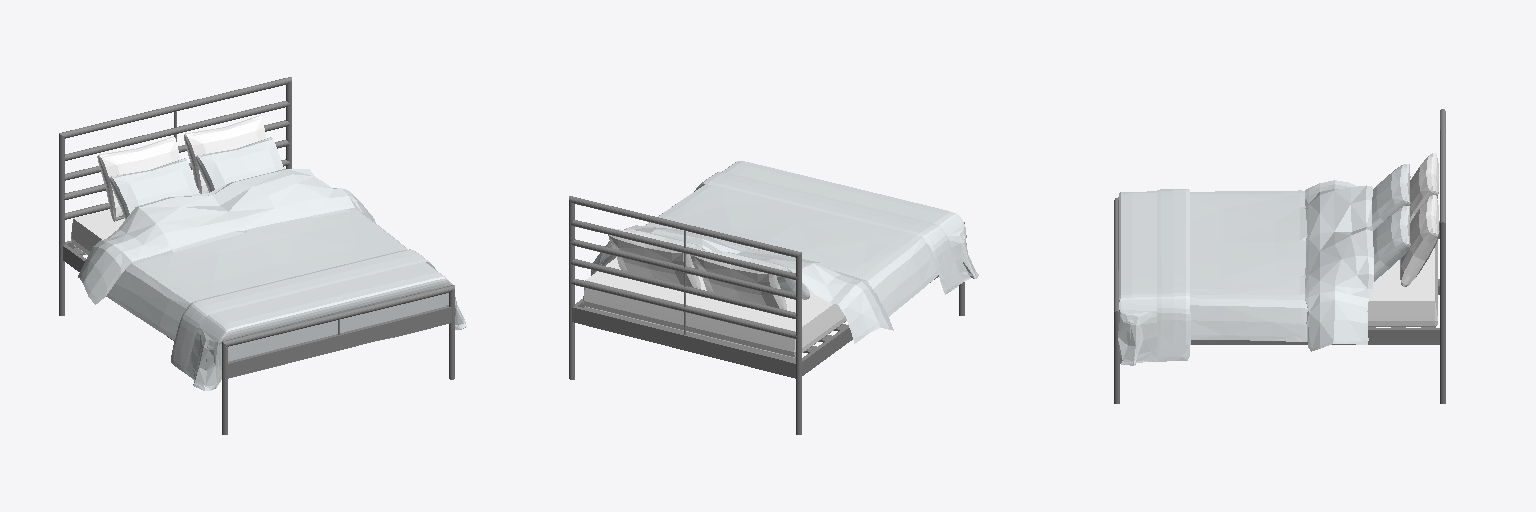
Rendered from bed.obj.
3 views of the same model, side by side, from view 1: azimuth 30°, elevation 25°; view 2: azimuth 150°, elevation 25°; view 3: azimuth 270°, elevation 25° (orthographic).
Visible parts, largest first — view 1: Object02, Object01, Loft01, Box04, Box05, Box03, Box06, Box02; view 2: Object02, Loft01, Object01, Box02, Box03, Box06, Box04; view 3: Object02, Object01, Loft01, Box02, Box06, Box05, Box04, Box03.
Boxes of the visible parts, x1,y1,x2,y2 form: Object02: [78, 169, 407, 340]; Object01: [171, 249, 466, 390]; Loft01: [59, 77, 454, 434]; Box04: [109, 158, 199, 219]; Box05: [195, 137, 283, 192]; Box03: [97, 136, 179, 221]; Box06: [184, 115, 265, 193]; Box02: [71, 167, 285, 254]; Object02: [591, 184, 938, 343]; Loft01: [569, 196, 964, 434]; Object01: [694, 161, 978, 294]; Box02: [583, 257, 846, 357]; Box03: [694, 249, 786, 309]; Box06: [608, 228, 700, 288]; Box04: [712, 251, 809, 299]; Object02: [1190, 180, 1373, 351]; Object01: [1118, 189, 1190, 365]; Loft01: [1114, 109, 1445, 403]; Box02: [1367, 242, 1437, 326]; Box06: [1400, 195, 1438, 286]; Box05: [1373, 206, 1410, 281]; Box04: [1372, 164, 1410, 230]; Box03: [1410, 153, 1438, 222].
Size of the model in its own units: 2012 by 1207 by 2001.